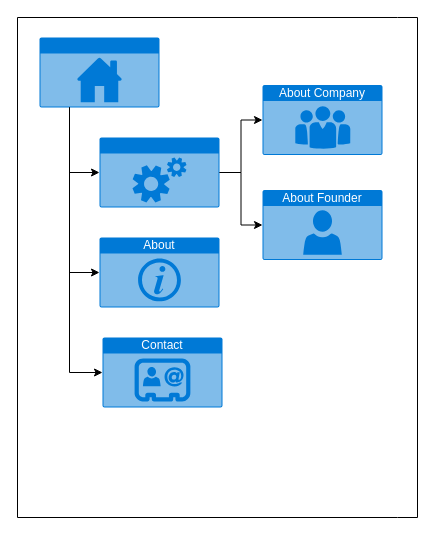
This 435x535 diagram has some shape labels left out. The shapes that lost their labels are listed below. From the top down, each one's centre as x and y in pixels, then its label:
At (x=99, y=72): "Home".
At (x=159, y=172): "Services".
